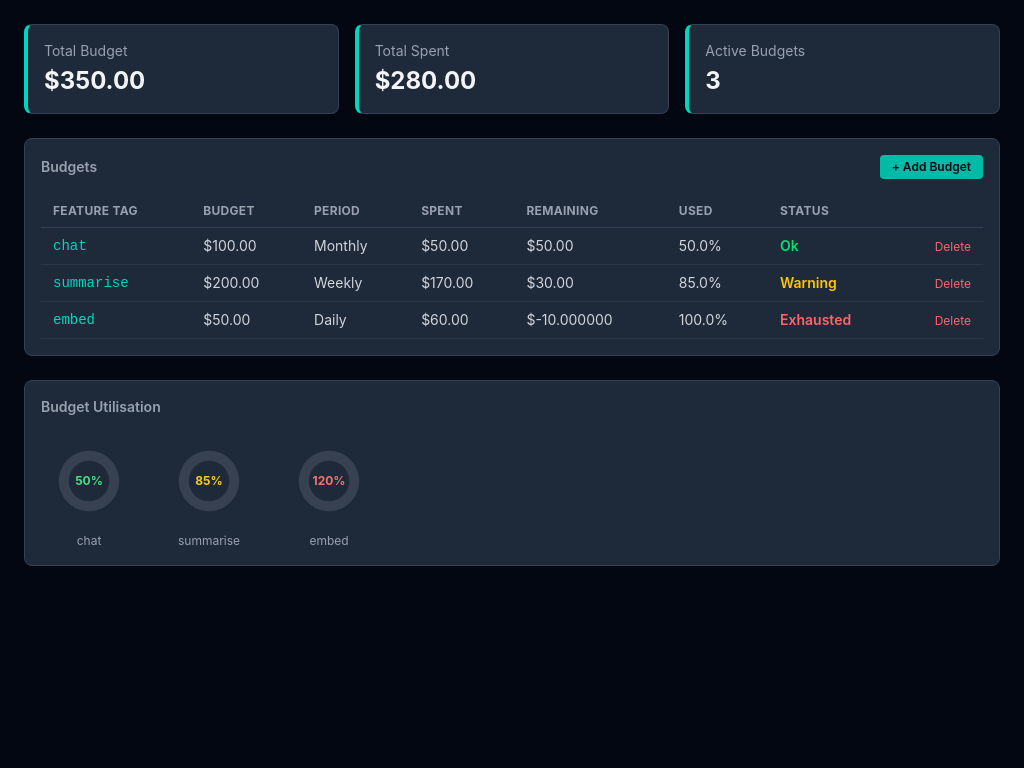
Test case: BudgetManager › hides the form after successful submission
Click the button "+ Add Budget" at (931, 167), box [880, 155, 983, 179]
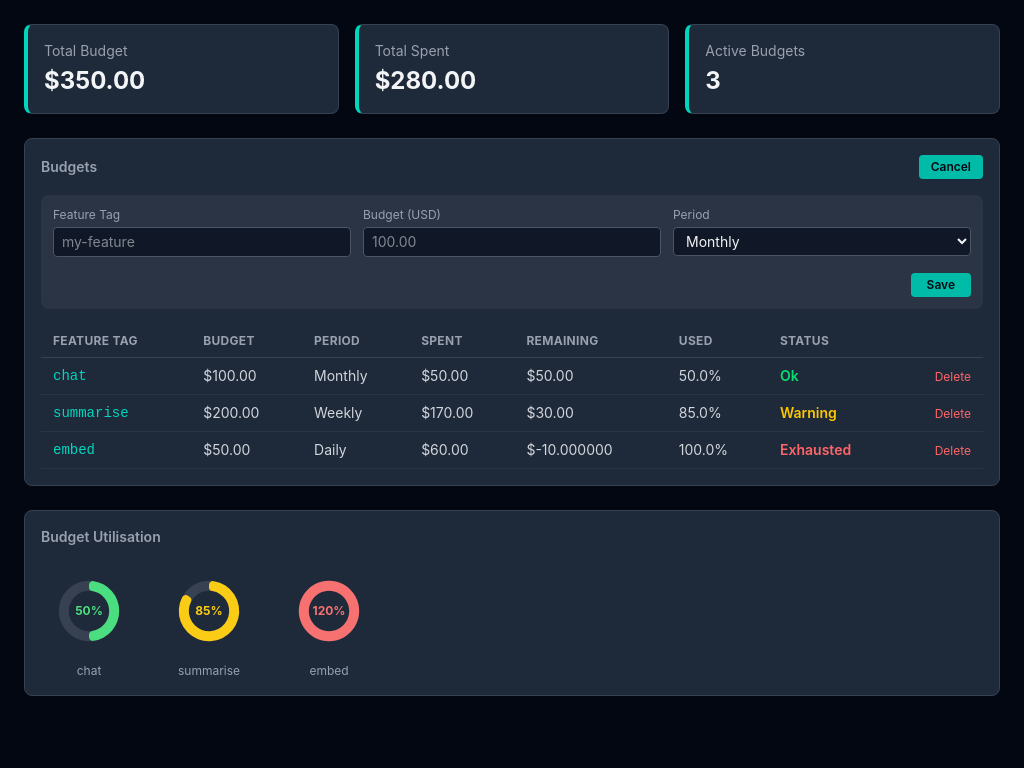
expect the field with placeholder "my-feature" is shown: met
Type "temp" into the field with placeholder "my-feature" at (202, 242), box [53, 227, 351, 257]
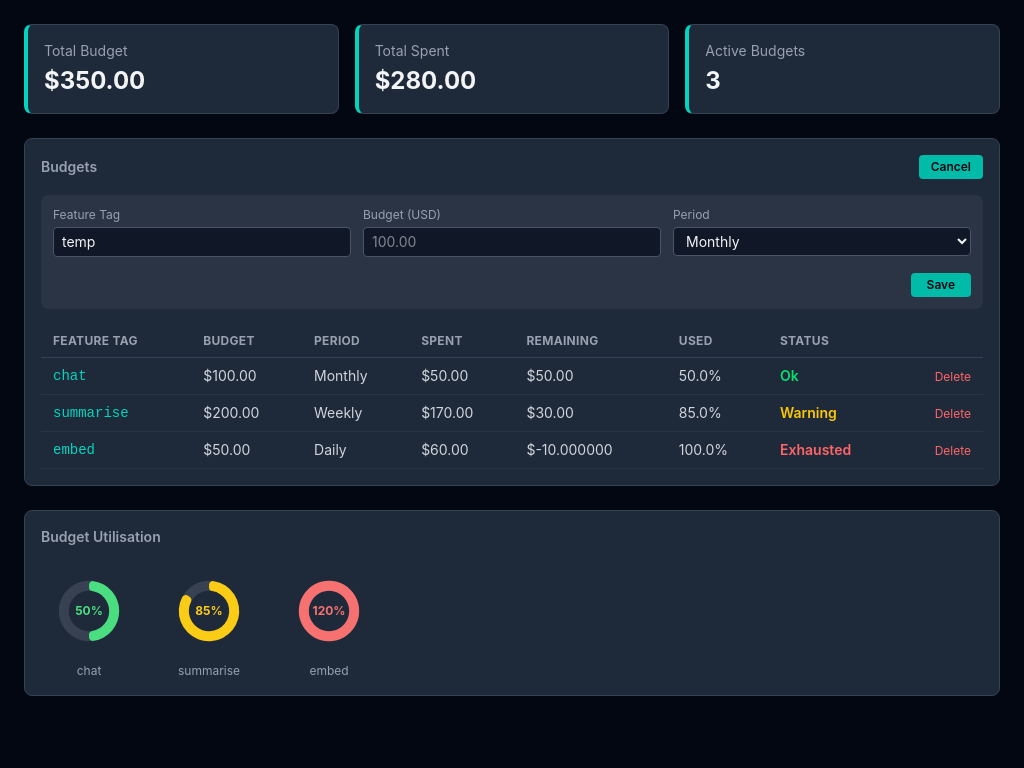
Type "10" into the number field with placeholder "100.00" at (512, 242), box [363, 227, 661, 257]
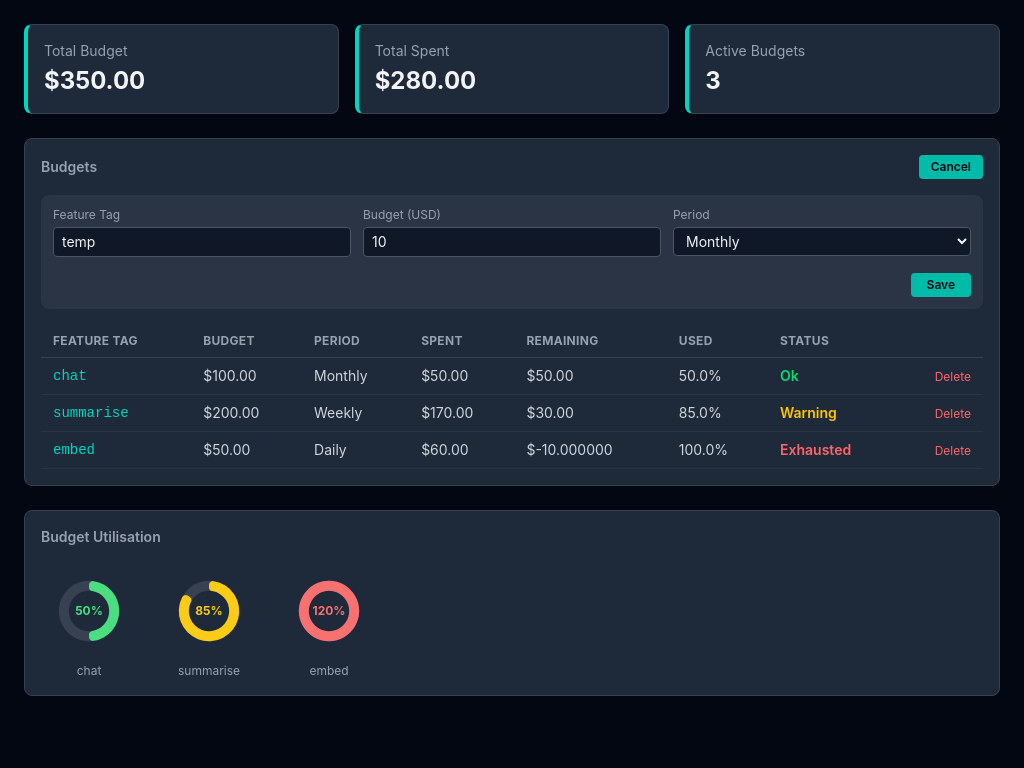
Submit the form "Feature Tag Budget (USD) Period Save", box [41, 195, 983, 309]
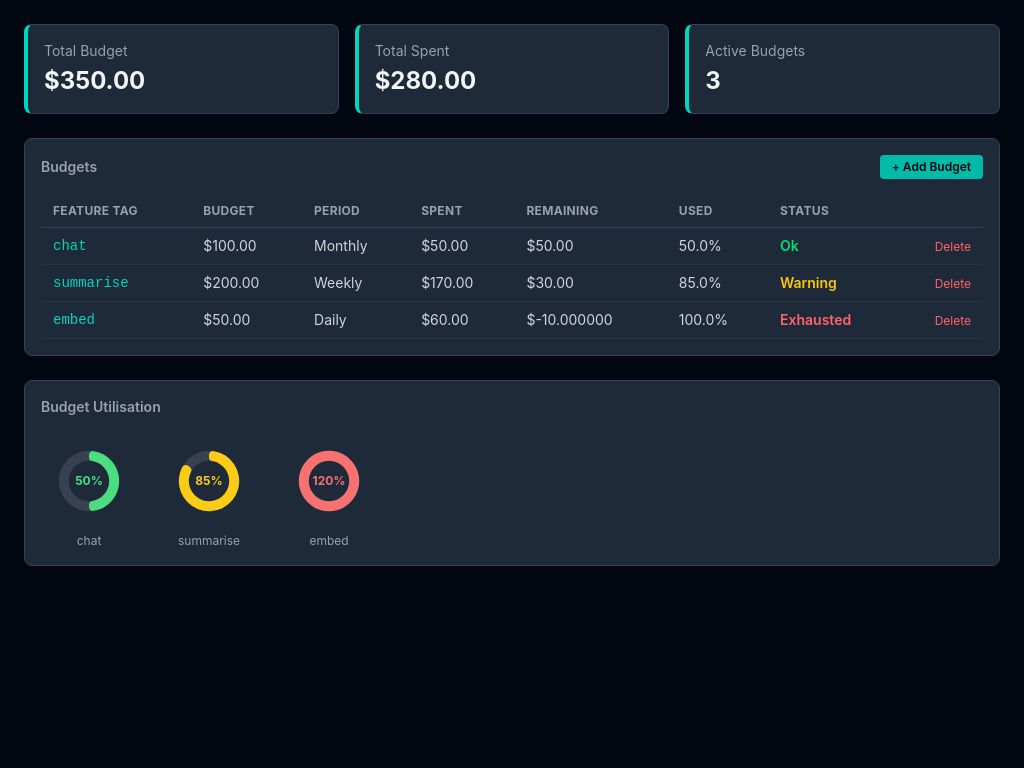
expect the field with placeholder "my-feature" is gone: met
